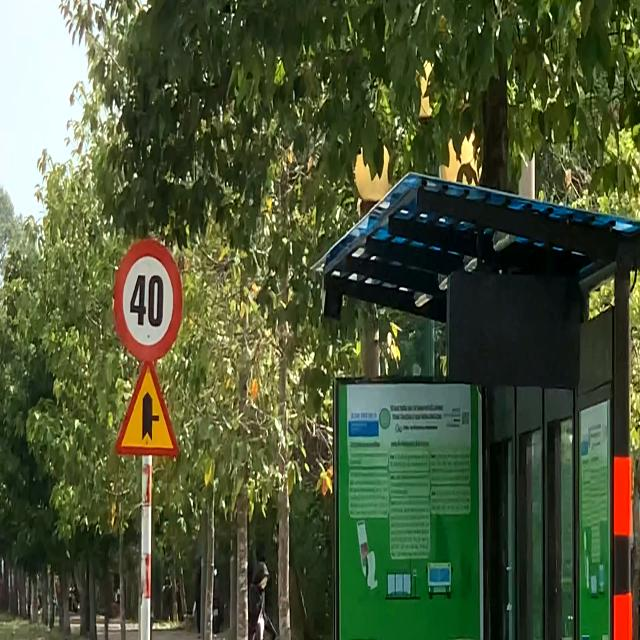P.127: (115, 237, 184, 360)
W.207b: (113, 358, 183, 461)
